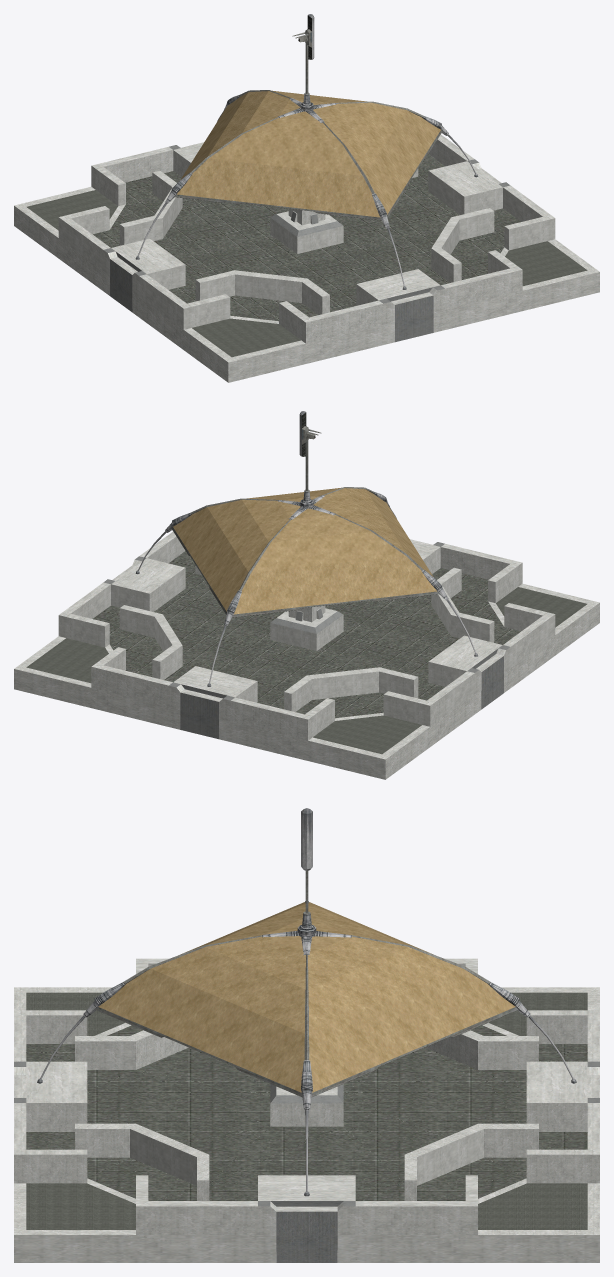
File: mun_corl_bank_s01_l0.fbx
3 renders of one model, top to bottom at view 1: azimuth 30°, elevation 25°; view 2: azimuth 150°, elevation 25°; view 3: azimuth 270°, elevation 25°, orthographic. The views are drawn at different scales.
Visible parts, largest first — view 1: mesh_node; view 2: mesh_node; view 3: mesh_node.
Part boxes in pixels (x1,y1,x2,y2): mesh_node: (14, 14, 599, 382); mesh_node: (14, 411, 599, 779); mesh_node: (14, 808, 599, 1262).
Bounding box in the file's own units: 60 × 37.63 × 60.
